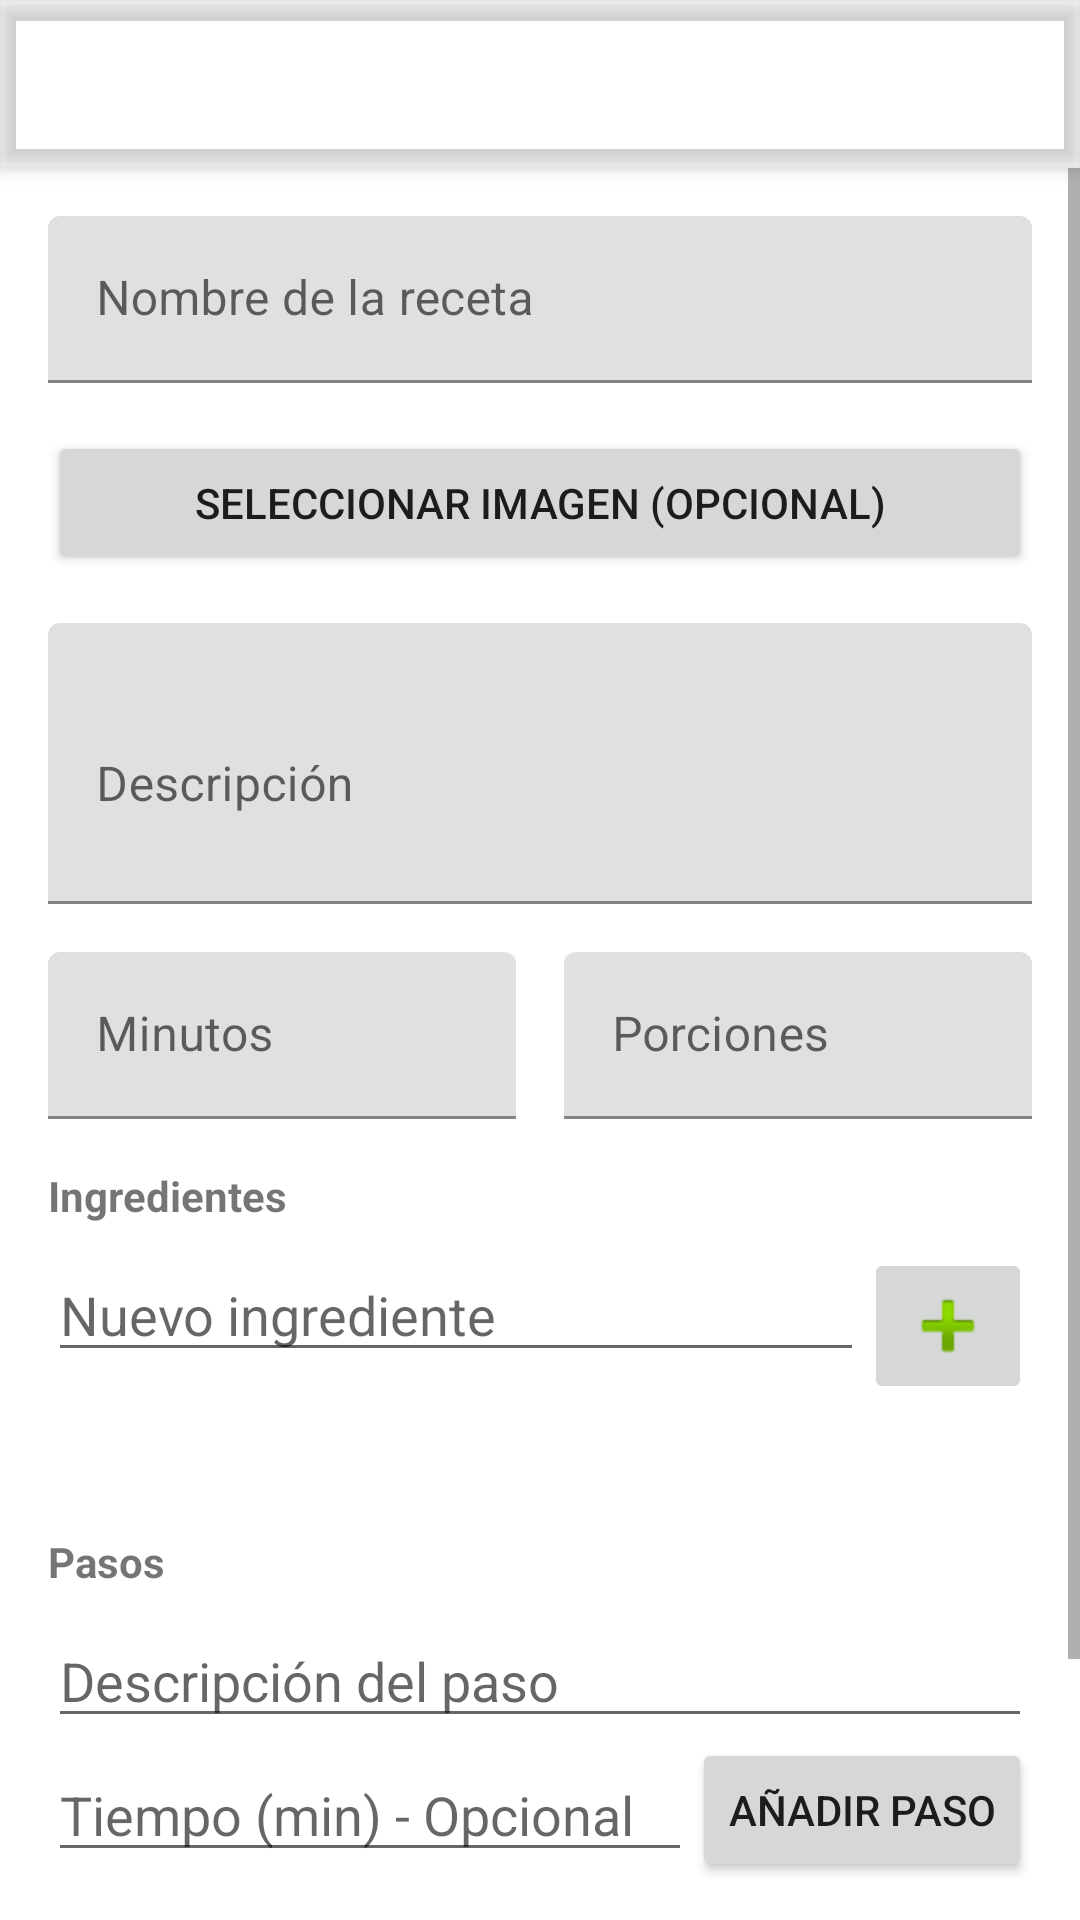

Named icons in this screenshot (1080*1920) and their centers, (x=x, y=y):
add: (x=948, y=1326)
